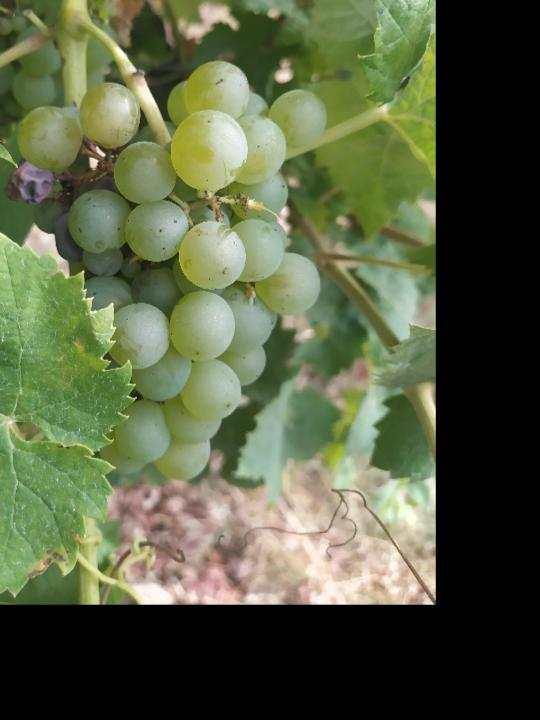grape: (13, 58, 329, 485)
